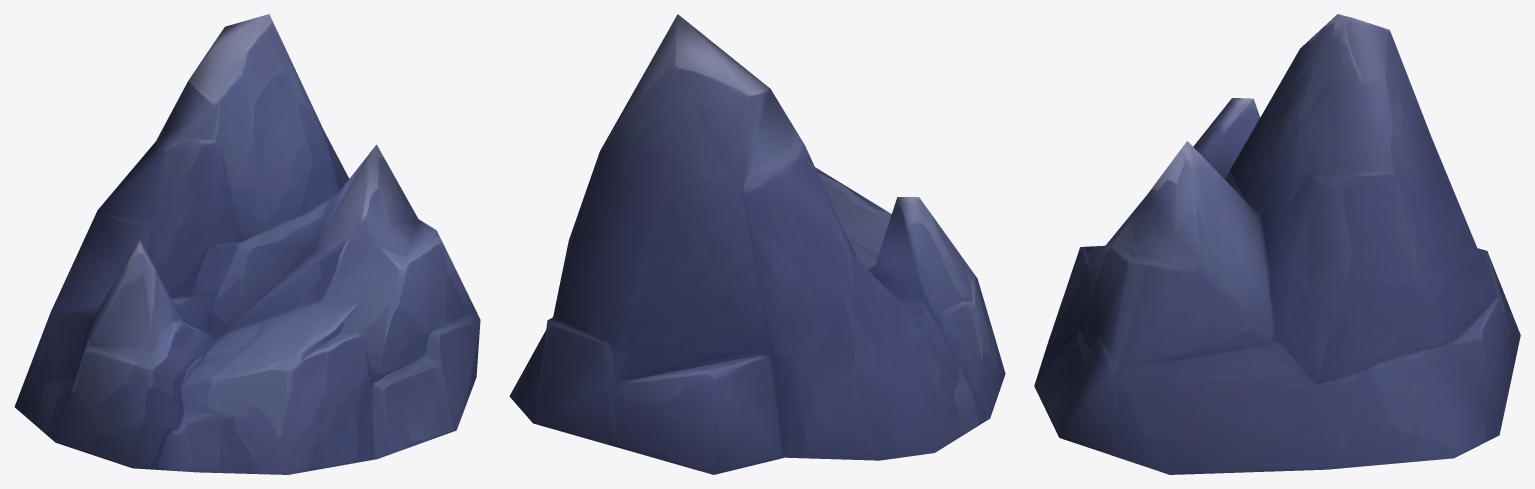
The model's file is Amethyst_Peak_1x1.fbx.
The picture shows the model from 3 angles, left to right: view 1: azimuth 30°, elevation 25°; view 2: azimuth 150°, elevation 25°; view 3: azimuth 270°, elevation 25°; orthographic projection. The views are drawn at different scales.
Visible parts, largest first — view 1: Amethyst_Source_1Cell; view 2: Amethyst_Source_1Cell; view 3: Amethyst_Source_1Cell.
Boxes of the visible parts, bbox=[...] form: Amethyst_Source_1Cell: bbox=[14, 14, 480, 474]; Amethyst_Source_1Cell: bbox=[509, 14, 1005, 474]; Amethyst_Source_1Cell: bbox=[1034, 14, 1520, 474].
Bounding box in the file's own units: 0.92 × 0.7841 × 0.8893.
